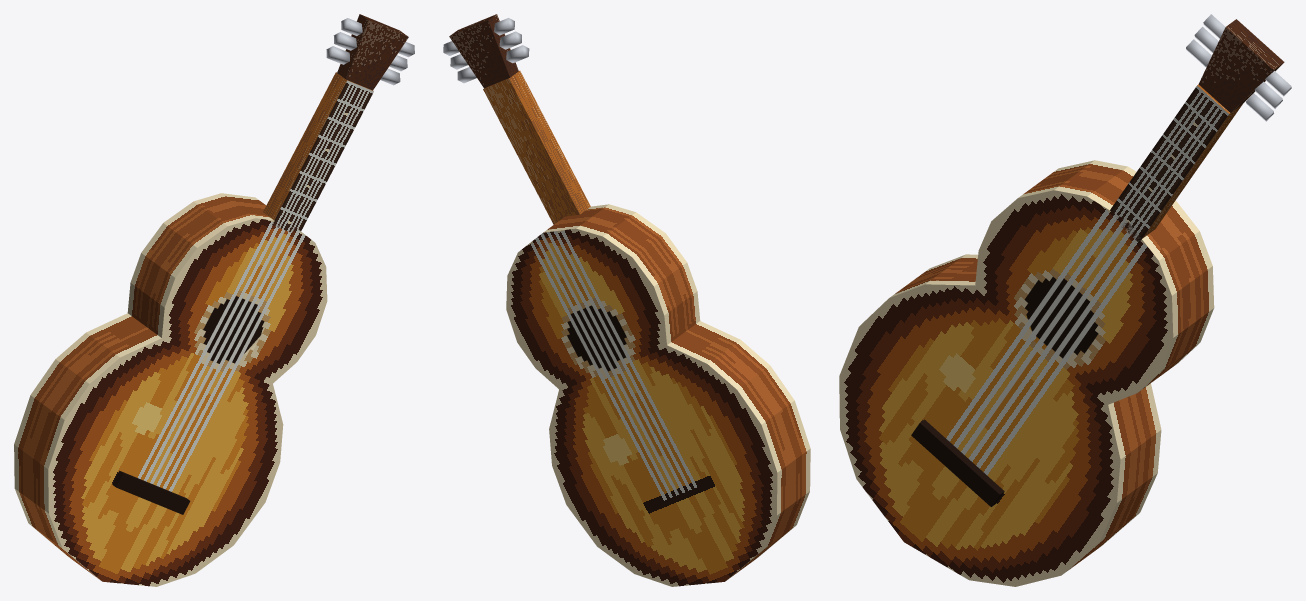
File: moreB-guitar.glb
3 views of the same model, side by side, from view 1: azimuth 30°, elevation 25°; view 2: azimuth 150°, elevation 25°; view 3: azimuth 330°, elevation 25° (orthographic). The views are drawn at different scales.
Parts seen in each view (by area): view 1: moreB.guitar; view 2: moreB.guitar; view 3: moreB.guitar.
Boxes of the visible parts, <box> form: moreB.guitar: <box>14,14,414,586</box>; moreB.guitar: <box>443,14,810,586</box>; moreB.guitar: <box>839,14,1291,586</box>.
Size of the model in its own units: 1.32 by 1.75 by 0.2349.
7 materials, 6 textured.
